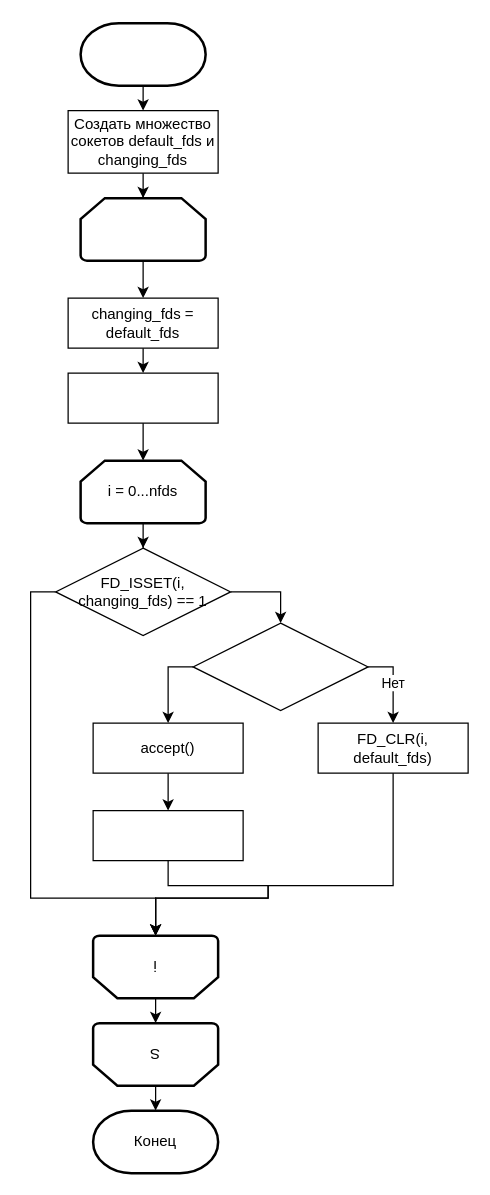
Image size: 490x1195. Some labels were removed from this diagram. Each missing label, with the box of its shape:
FD_SET(newfd, default_fds): (92, 809, 243, 861)
i == listenfd: (192, 622, 368, 711)
pselect: (67, 372, 218, 423)
S, while true: (79, 196, 206, 261)
Начало: (79, 21, 206, 86)
